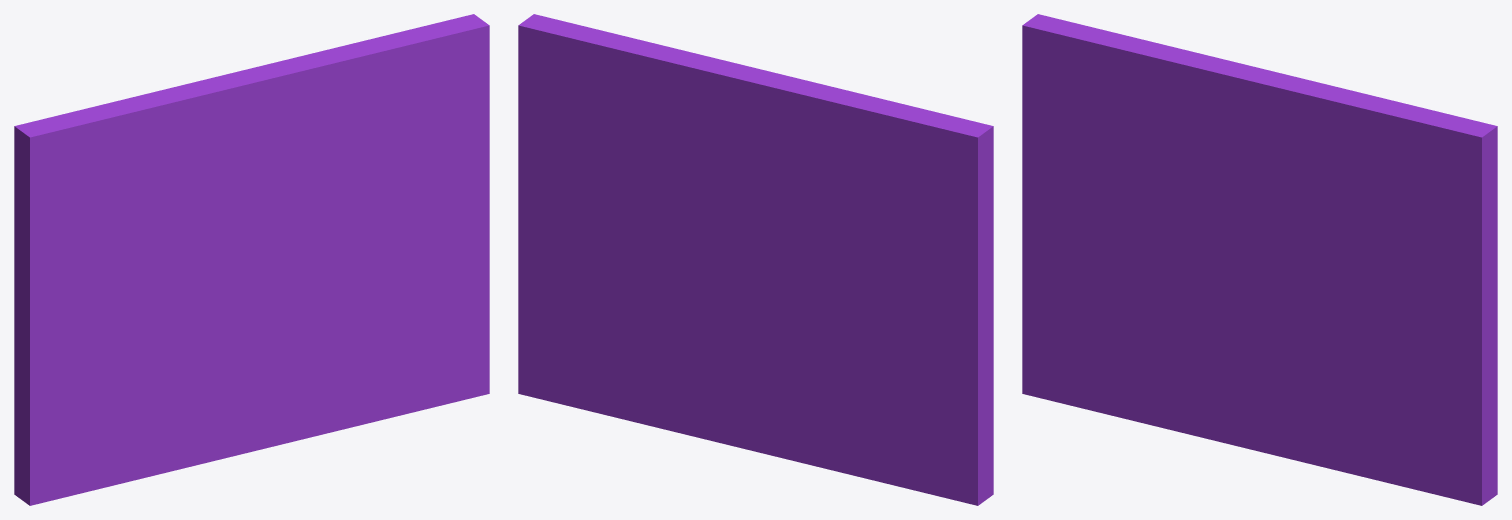
File: Barrier_132_chunks.fbx
3 views of the same model, side by side, from view 1: azimuth 30°, elevation 25°; view 2: azimuth 150°, elevation 25°; view 3: azimuth 330°, elevation 25° (orthographic).
Parts seen in each view (by area): view 1: Barrier_132_2, Barrier_132_3, Barrier_132_1; view 2: Barrier_132_2, Barrier_132_3, Barrier_132_1, Barrier_132_0; view 3: Barrier_132_2, Barrier_132_3, Barrier_132_1, Barrier_132_0.
Part boxes in pixels (bbox=[...]): Barrier_132_2: bbox=[14, 92, 254, 505]; Barrier_132_3: bbox=[152, 14, 489, 262]; Barrier_132_1: bbox=[137, 233, 489, 479]; Barrier_132_2: bbox=[753, 94, 993, 505]; Barrier_132_3: bbox=[518, 14, 860, 252]; Barrier_132_1: bbox=[518, 316, 854, 475]; Barrier_132_0: bbox=[518, 214, 770, 319]; Barrier_132_2: bbox=[1022, 14, 1246, 419]; Barrier_132_3: bbox=[1155, 47, 1497, 345]; Barrier_132_1: bbox=[1130, 260, 1497, 505]; Barrier_132_0: bbox=[1486, 316, 1497, 415].
Size of the model in its own units: 376 by 288 by 22.1.
